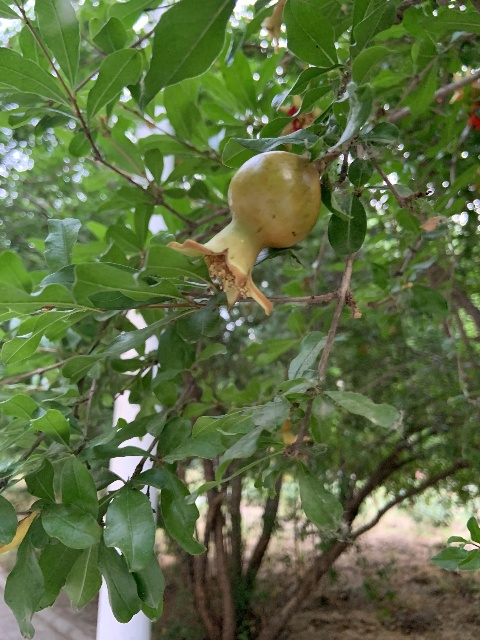early-fruit: (167, 148, 322, 317)
